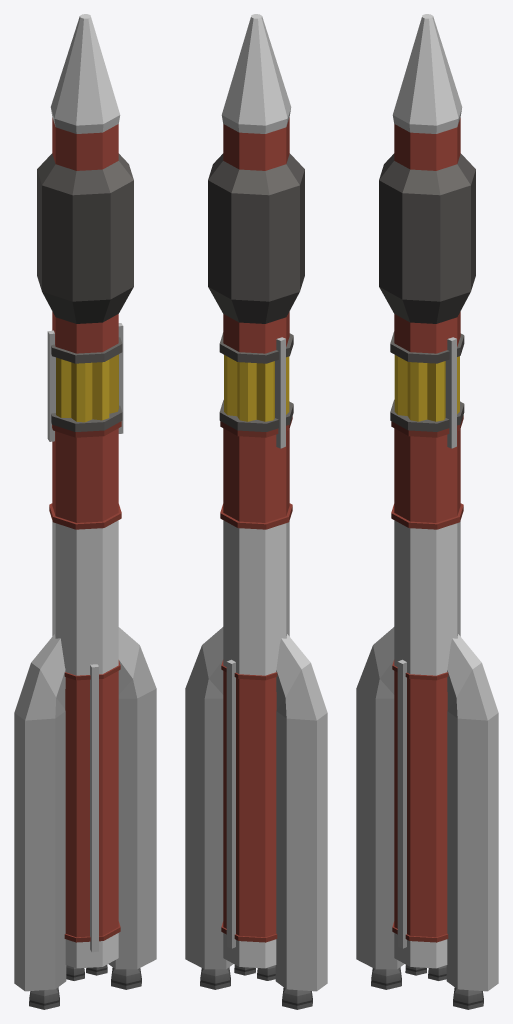
The model's file is SM_Veh_Rocket_01.fbx.
The picture shows the model from 3 angles, left to right: view 1: azimuth 30°, elevation 25°; view 2: azimuth 150°, elevation 25°; view 3: azimuth 330°, elevation 25°; orthographic projection.
Parts seen in each view (by area): view 1: SM_Veh_Rocket_01; view 2: SM_Veh_Rocket_01; view 3: SM_Veh_Rocket_01.
Part boxes in pixels (x1,y1,x2,y2): SM_Veh_Rocket_01: [14, 14, 156, 1009]; SM_Veh_Rocket_01: [185, 14, 327, 1009]; SM_Veh_Rocket_01: [356, 14, 498, 1009].
Bounding box in the file's own units: 3.74 × 26.56 × 2.48.
